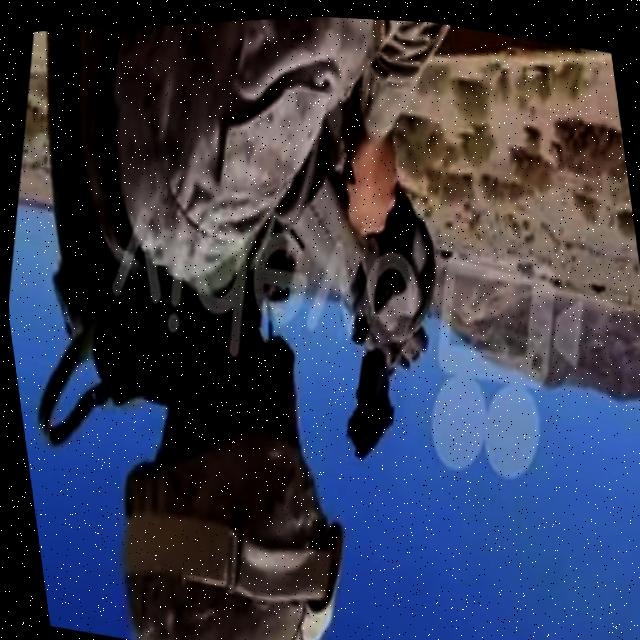rocket: (214, 100, 488, 477)
